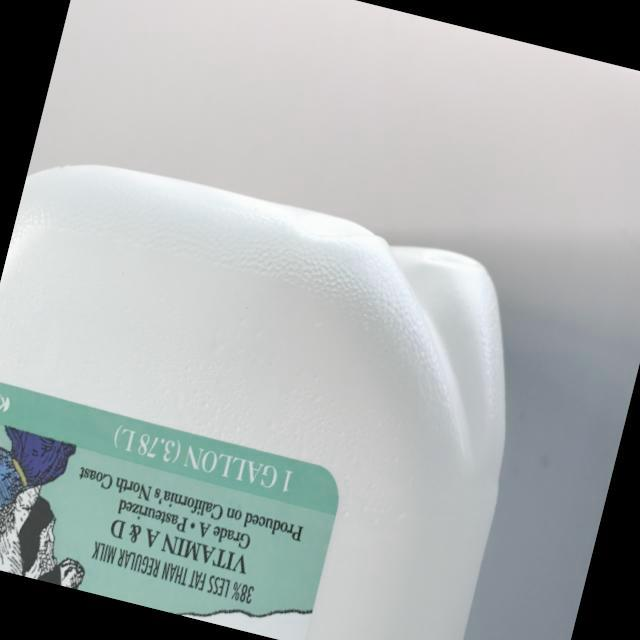plastic: (0, 108, 619, 640)
